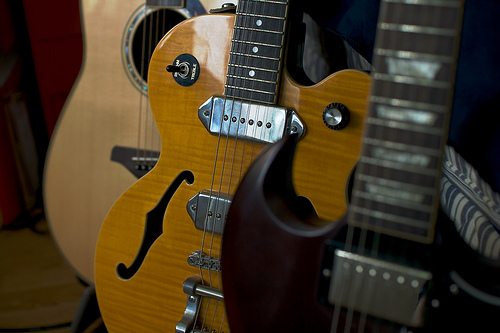guitar: (41, 1, 227, 292)
